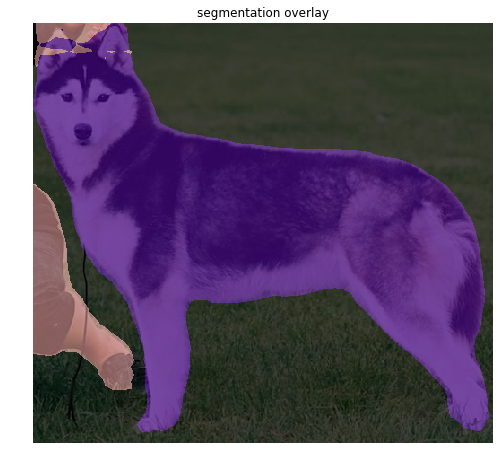unlabelled: (35, 25, 490, 443)
